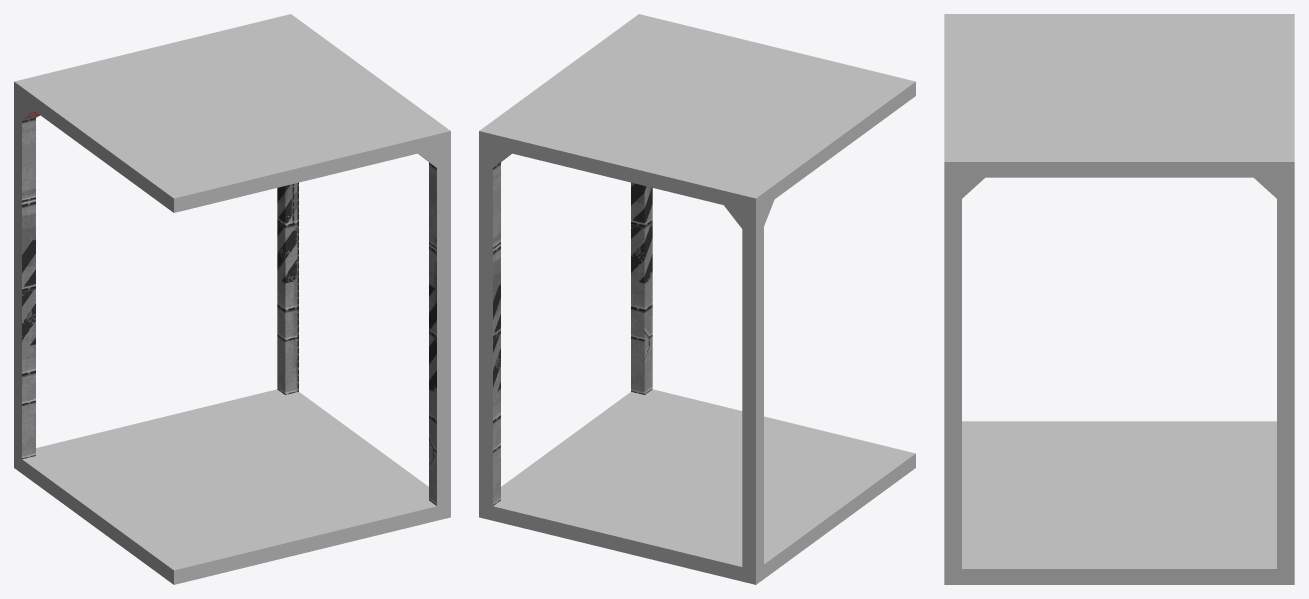
The picture shows the model from 3 angles, left to right: view 1: azimuth 30°, elevation 25°; view 2: azimuth 150°, elevation 25°; view 3: azimuth 270°, elevation 25°; orthographic projection. The views are drawn at different scales.
Visible parts, largest first — view 1: Body.001; view 2: Body.001; view 3: Body.001.
Part boxes in pixels (bbox=[...]): Body.001: bbox=[14, 14, 450, 584]; Body.001: bbox=[479, 14, 915, 584]; Body.001: bbox=[944, 14, 1294, 584].
Bounding box in the file's own units: 1.5 × 2 × 1.5.
Materials: 3 (2 with a texture image).
